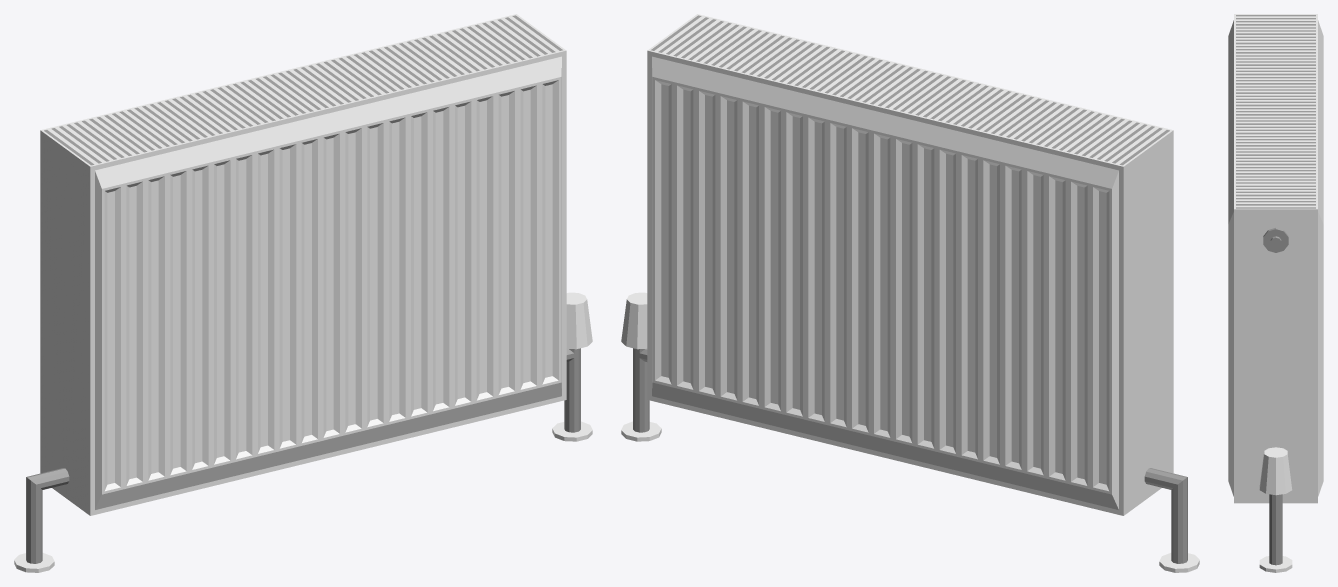
Rendered from 1299 Radiator.obj.
3 renders of one model, left to right at view 1: azimuth 30°, elevation 25°; view 2: azimuth 150°, elevation 25°; view 3: azimuth 270°, elevation 25°, orthographic. The views are drawn at different scales.
Visible parts, largest first — view 1: Radiator; view 2: Radiator; view 3: Radiator.
Part boxes in pixels (x1,y1,x2,y2): Radiator: (14,14,592,572); Radiator: (621,14,1199,572); Radiator: (1228,14,1323,572).
Size of the model in its own units: 114 by 77.8 by 19.52.
1 material, 1 textured.
